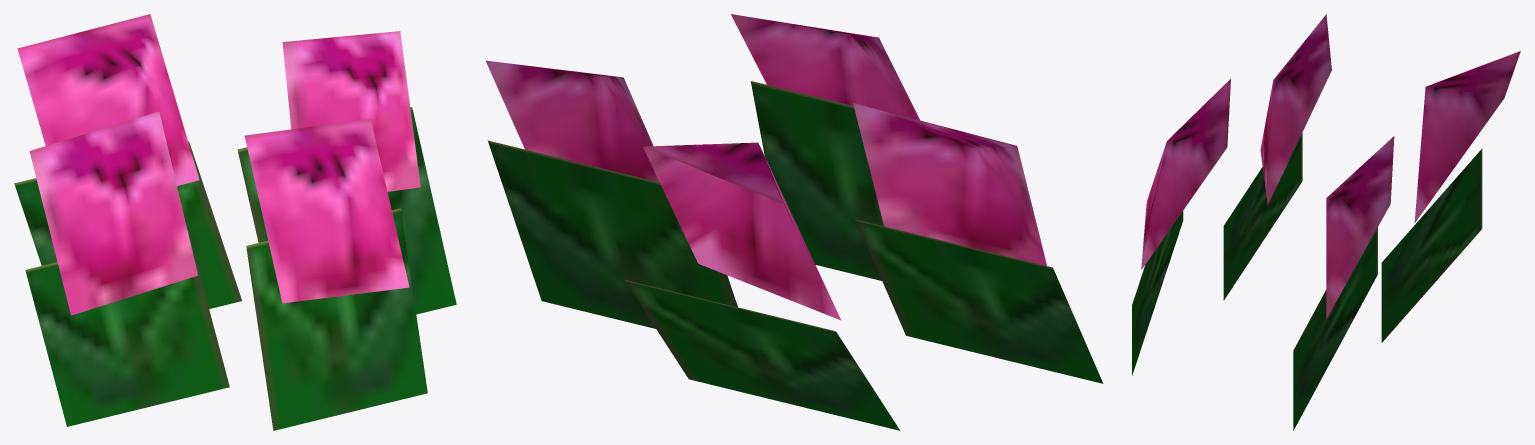
The model's file is flw_tulip_pi.dae.
The picture shows the model from 3 angles, left to right: view 1: azimuth 30°, elevation 25°; view 2: azimuth 150°, elevation 25°; view 3: azimuth 270°, elevation 25°; orthographic projection. The views are drawn at different scales.
Parts seen in each view (by area): view 1: flw_tulip_pi; view 2: flw_tulip_pi; view 3: flw_tulip_pi.
Boxes of the visible parts, x1,y1,x2,y2 form: flw_tulip_pi: (14, 14, 456, 430); flw_tulip_pi: (486, 14, 1103, 430); flw_tulip_pi: (1132, 14, 1520, 430).
Bounding box in the file's own units: 30.95 × 17.79 × 25.83.
Materials: 1 (1 with a texture image).
